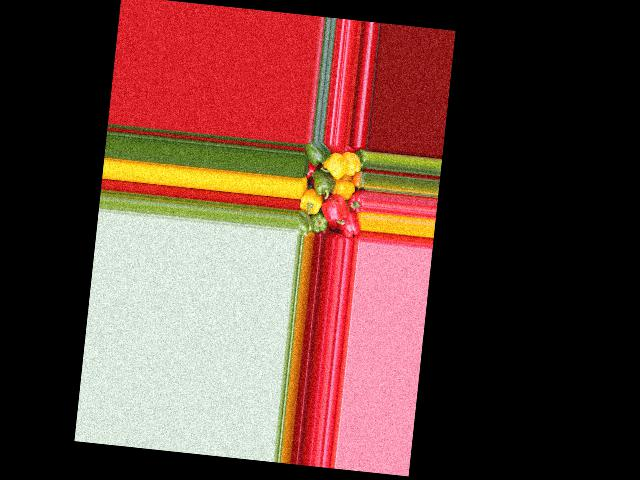bell_pepper: (356, 149, 369, 171)
